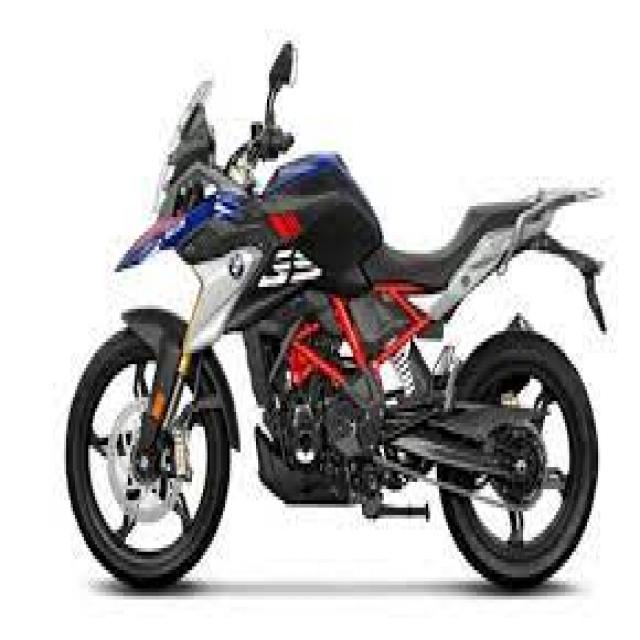Bike: (70, 42, 607, 609)
